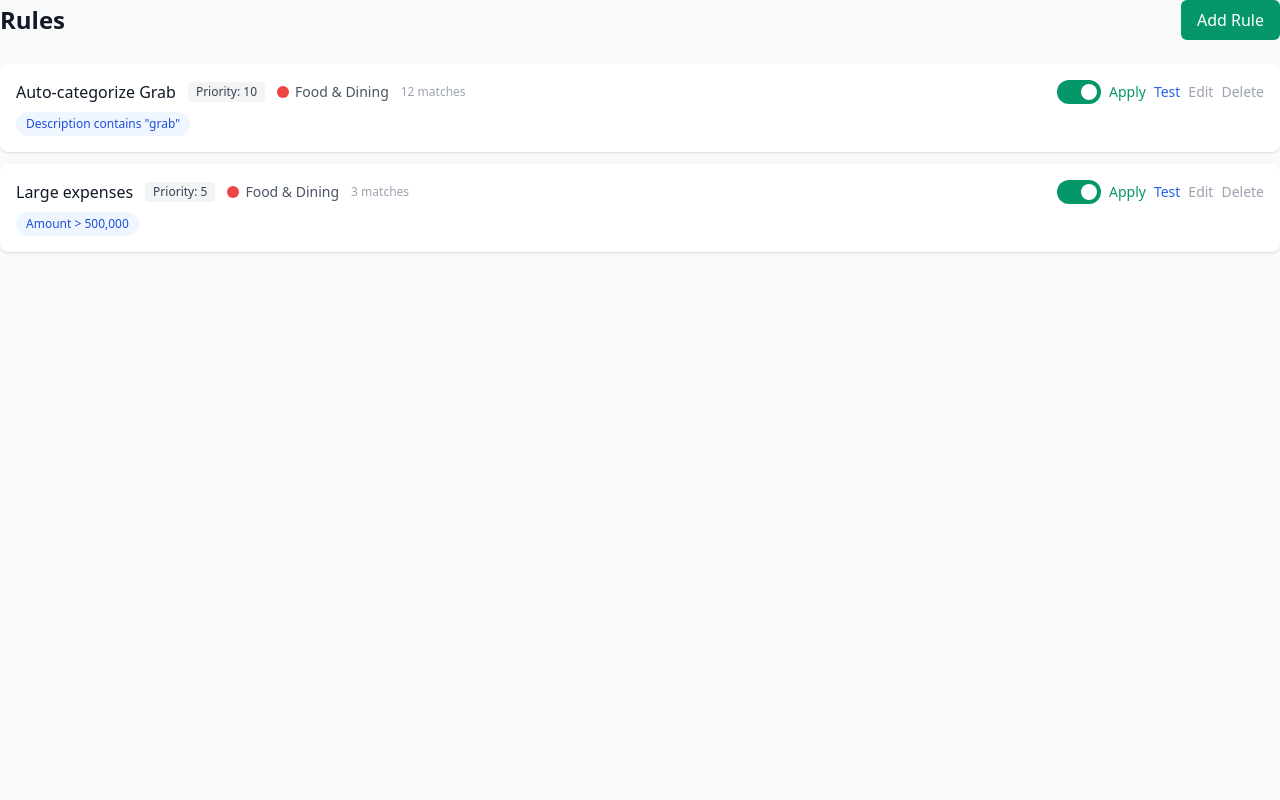
Test: RulesPage › shows between inputs for amount between operator
This screenshot has width=1280, height=800.
Click the button "Add Rule": (1230, 20) [1181,0,1279,40]
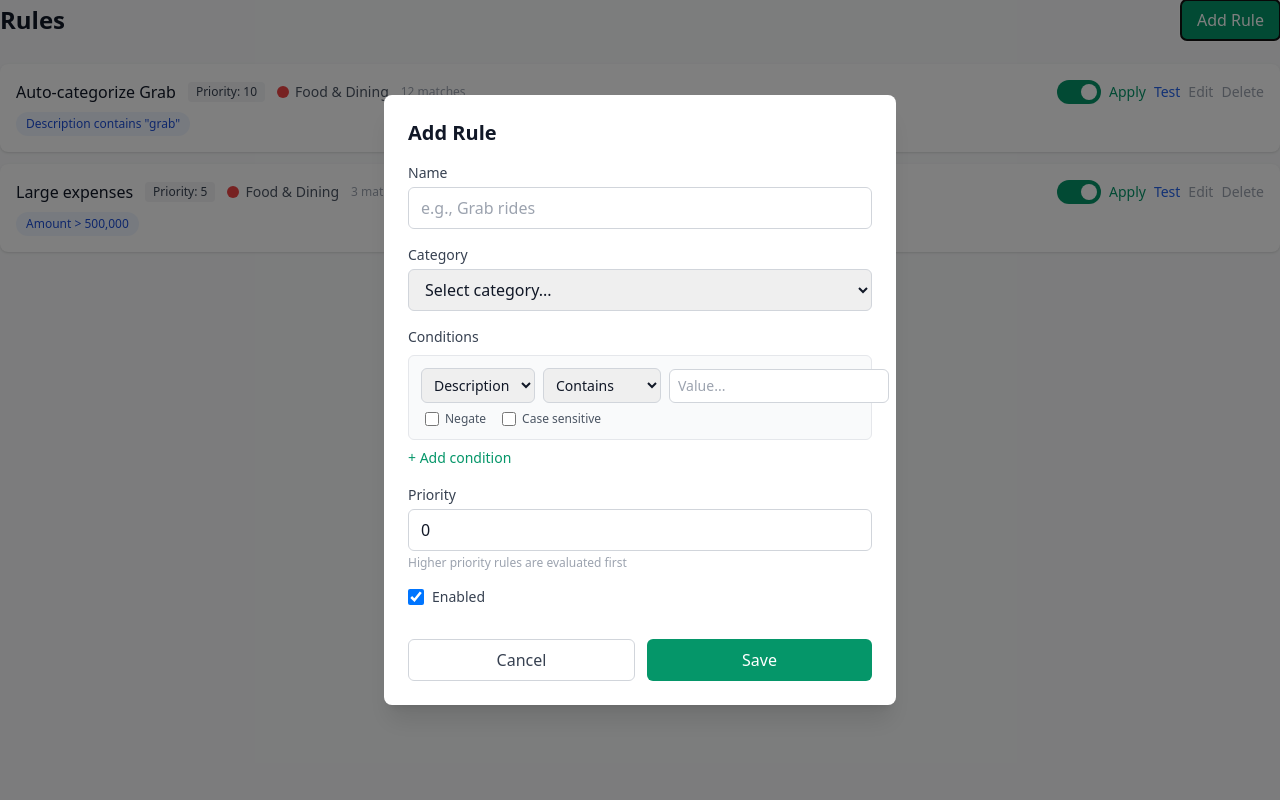
Now the text "Conditions" is shown, box [408,327,479,346]
// First select in conditions area is the field selector
Select "Amount" in the 2nd dropdown: (478, 386) [421,368,535,403]
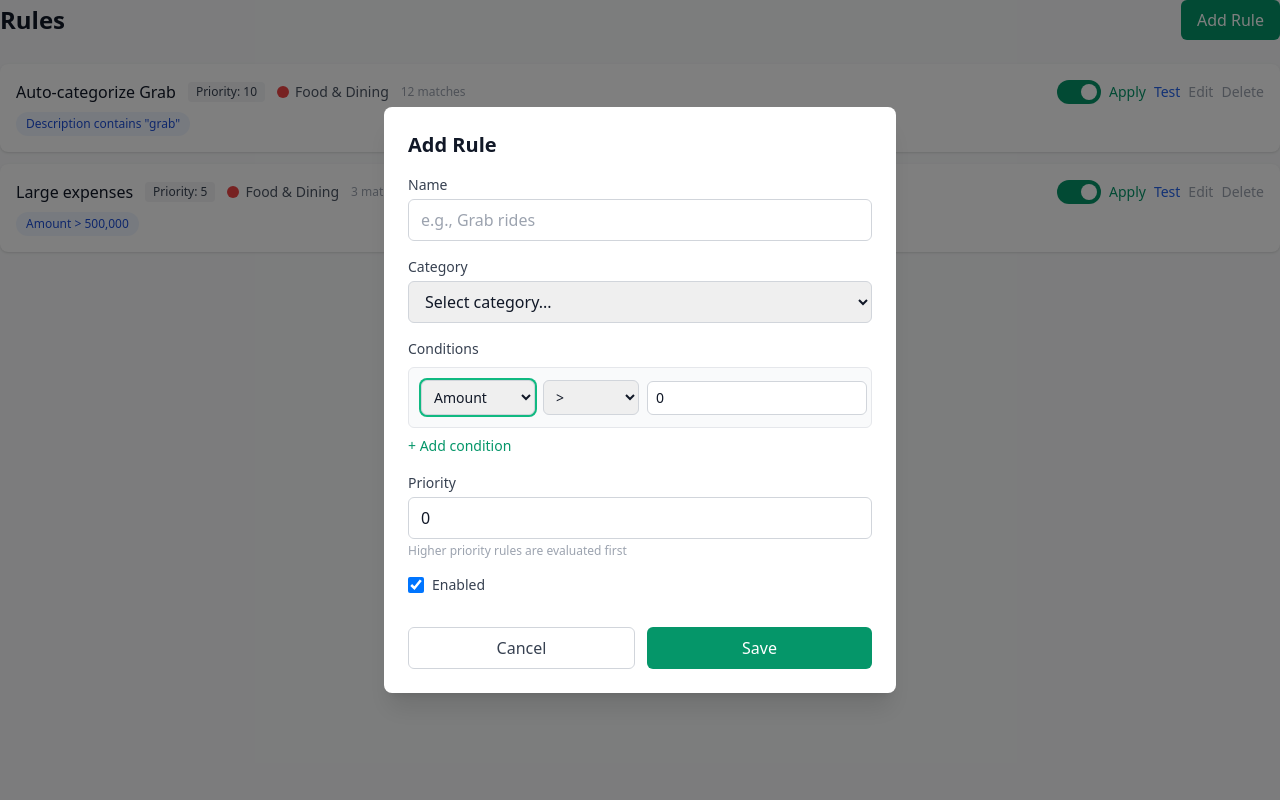
Now the number field with placeholder "Amount..." below "Conditions" is shown, box [647,380,867,414]
Select "Between" in the 3rd dropdown: (591, 398) [543,380,639,415]
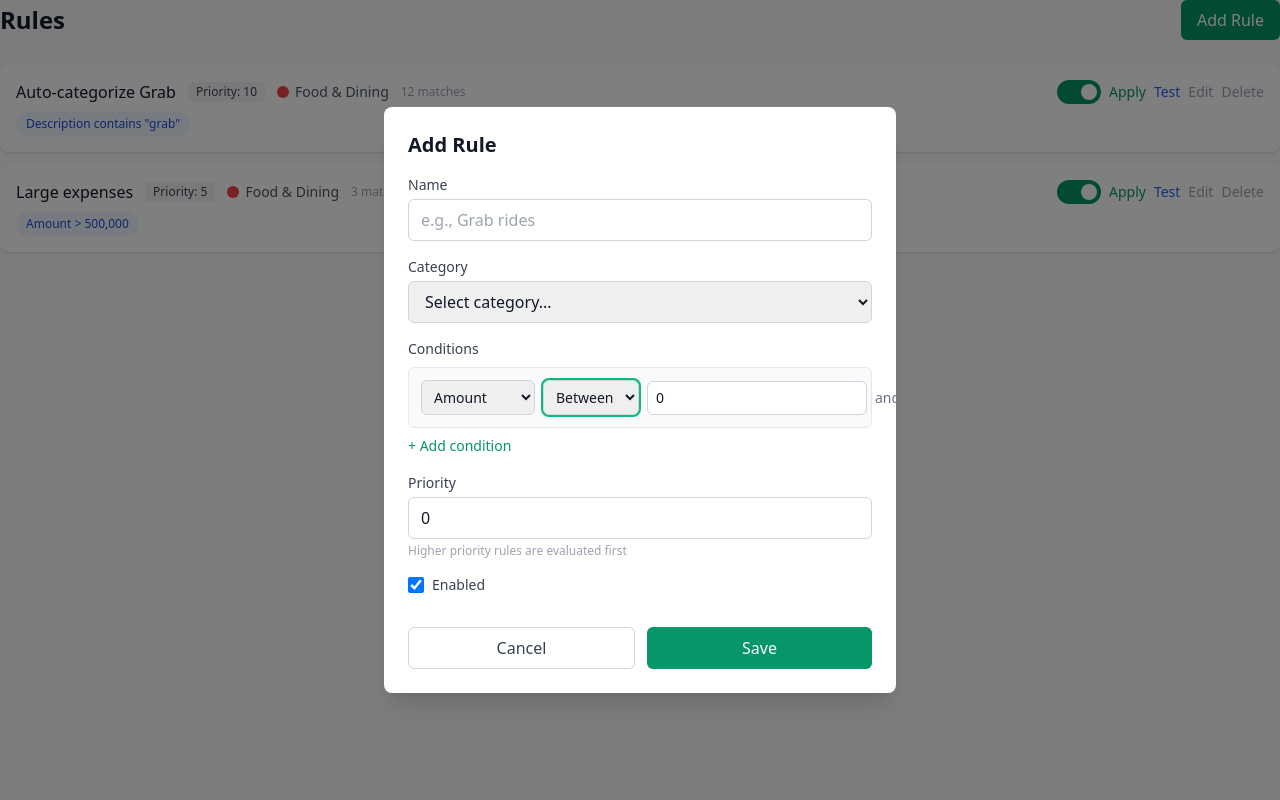
Now the text "and" is shown, box [875,388,896,408]
